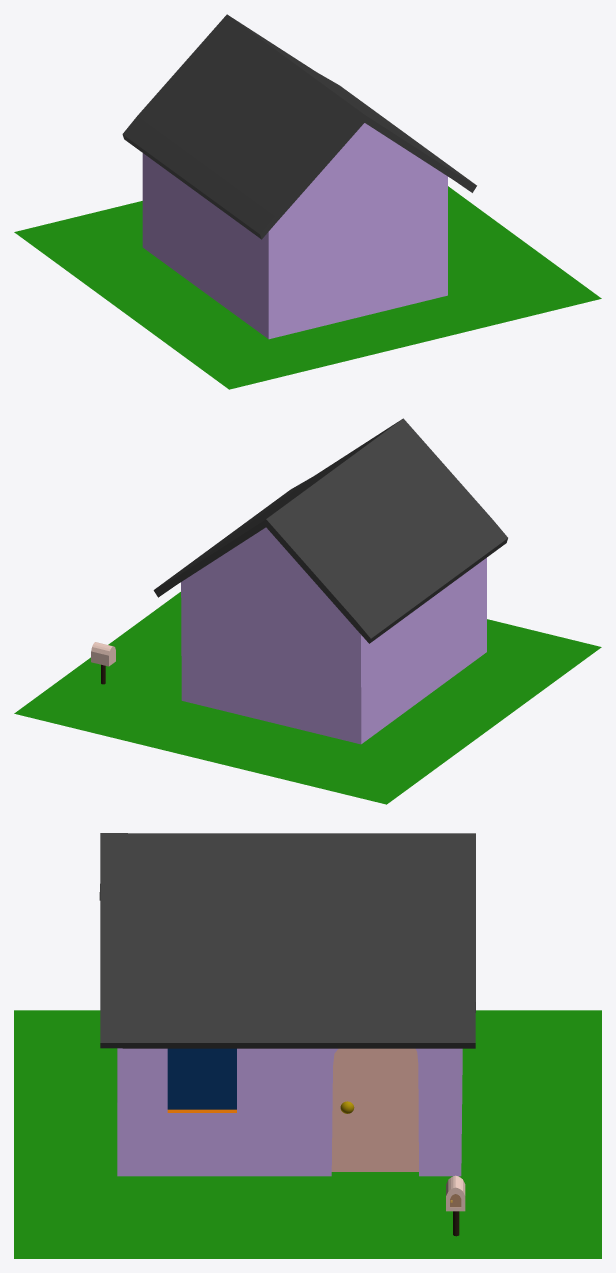
Rendered from CASA02.certo.fbx.
3 renders of one model, top to bottom at view 1: azimuth 30°, elevation 25°; view 2: azimuth 150°, elevation 25°; view 3: azimuth 270°, elevation 25°, orthographic. The views are drawn at different scales.
Visible parts, largest first — view 1: Plane.001, Plane; view 2: Plane.001, Plane, Cube; view 3: Plane.001, Plane, Cube.
Part boxes in pixels (left/top/right/bottom): Plane.001: left=122, top=14, right=476, bottom=339; Plane: left=14, top=186, right=601, bottom=389; Plane.001: left=153, top=418, right=507, bottom=744; Plane: left=14, top=592, right=601, bottom=804; Cube: left=91, top=642, right=115, bottom=666; Plane.001: left=99, top=833, right=475, bottom=1176; Plane: left=14, top=1010, right=601, bottom=1258; Cube: left=446, top=1175, right=465, bottom=1211.
Size of the model in its own units: 949 by 516 by 949.
Materials: 2 (2 with a texture image).
